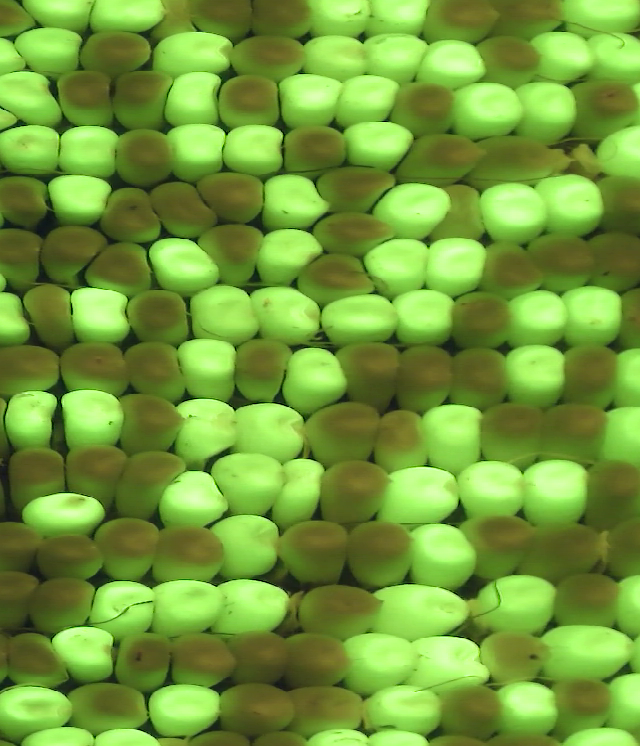fluorescent: (361, 578, 475, 645), (394, 516, 487, 593), (396, 629, 500, 697), (533, 621, 640, 687), (367, 462, 466, 532), (470, 567, 564, 640), (203, 509, 290, 587), (204, 447, 294, 521), (516, 454, 600, 532), (335, 629, 432, 694), (207, 573, 294, 645), (310, 287, 406, 352), (441, 75, 528, 145), (140, 231, 228, 300), (271, 344, 355, 416), (14, 484, 113, 544), (475, 177, 554, 252), (165, 393, 244, 468), (181, 279, 269, 346), (449, 457, 537, 524), (230, 397, 313, 468), (488, 676, 572, 746), (53, 376, 130, 452), (144, 574, 230, 642), (140, 676, 229, 741), (365, 180, 460, 240), (416, 400, 493, 474), (533, 168, 611, 241), (498, 339, 576, 412), (84, 571, 165, 641), (249, 222, 324, 297), (358, 230, 439, 299), (144, 26, 243, 82), (151, 466, 236, 531), (46, 619, 122, 691), (252, 166, 332, 234), (245, 281, 330, 345), (166, 331, 244, 400), (62, 280, 137, 351), (509, 75, 585, 145), (0, 679, 83, 743), (339, 112, 421, 176), (358, 680, 450, 737), (161, 116, 234, 187), (50, 116, 125, 185), (387, 282, 460, 350), (501, 286, 574, 354), (555, 280, 629, 347), (270, 68, 348, 131), (267, 452, 331, 528), (42, 170, 123, 230), (527, 24, 600, 90), (419, 233, 492, 299), (414, 30, 490, 93), (355, 29, 436, 87), (220, 120, 297, 181), (330, 71, 407, 131), (0, 383, 61, 457), (158, 67, 232, 127), (293, 29, 374, 83), (10, 20, 84, 78), (0, 118, 66, 181), (0, 66, 65, 129), (586, 117, 640, 187), (581, 26, 640, 88), (82, 1, 170, 42), (358, 1, 437, 44), (554, 1, 640, 39), (19, 1, 103, 38), (299, 1, 383, 37), (596, 401, 640, 468), (598, 568, 640, 637), (597, 670, 640, 732), (0, 286, 39, 352), (608, 341, 640, 416), (0, 29, 33, 90)
nonfluorescent: (509, 512, 613, 588), (338, 514, 423, 598), (106, 445, 195, 523), (448, 507, 544, 578), (309, 455, 402, 528), (460, 130, 561, 196), (294, 577, 393, 644), (297, 393, 385, 468), (464, 395, 551, 469), (325, 336, 409, 412), (272, 513, 355, 589), (392, 130, 496, 190), (270, 629, 366, 694), (466, 622, 563, 686), (147, 518, 235, 588), (424, 674, 514, 742), (111, 386, 194, 459), (56, 677, 158, 736), (277, 679, 373, 741), (59, 437, 133, 517), (20, 569, 103, 640), (158, 627, 248, 692), (81, 510, 168, 577), (518, 229, 605, 295), (471, 237, 555, 305), (389, 336, 463, 413), (442, 341, 519, 415), (117, 334, 195, 407), (292, 249, 383, 311), (530, 396, 610, 466), (216, 624, 302, 688), (302, 207, 400, 263), (93, 179, 170, 250), (116, 283, 196, 351), (212, 677, 301, 738), (78, 234, 160, 300), (227, 332, 298, 407), (193, 219, 269, 289), (146, 176, 224, 244), (305, 161, 404, 214), (551, 564, 627, 633), (27, 525, 110, 587), (366, 402, 436, 475), (106, 625, 179, 695), (572, 451, 640, 526), (56, 336, 138, 398), (212, 67, 289, 133), (441, 286, 516, 353), (108, 123, 179, 193), (555, 339, 626, 409), (222, 28, 314, 82), (35, 221, 110, 287), (50, 65, 122, 132), (566, 74, 640, 139), (191, 168, 272, 227), (20, 274, 82, 351), (72, 25, 160, 79), (390, 80, 464, 144), (278, 120, 354, 182), (545, 674, 622, 735), (428, 178, 494, 248), (472, 30, 548, 90), (0, 441, 71, 505), (0, 627, 72, 689), (107, 68, 177, 130), (0, 340, 68, 402), (581, 226, 640, 296), (418, 1, 504, 48), (486, 1, 574, 44), (0, 172, 60, 235), (589, 170, 640, 239), (0, 222, 48, 291), (247, 1, 323, 44), (0, 563, 46, 632), (0, 514, 47, 580), (595, 512, 640, 580), (185, 1, 260, 39), (144, 1, 200, 45), (0, 1, 42, 41)
